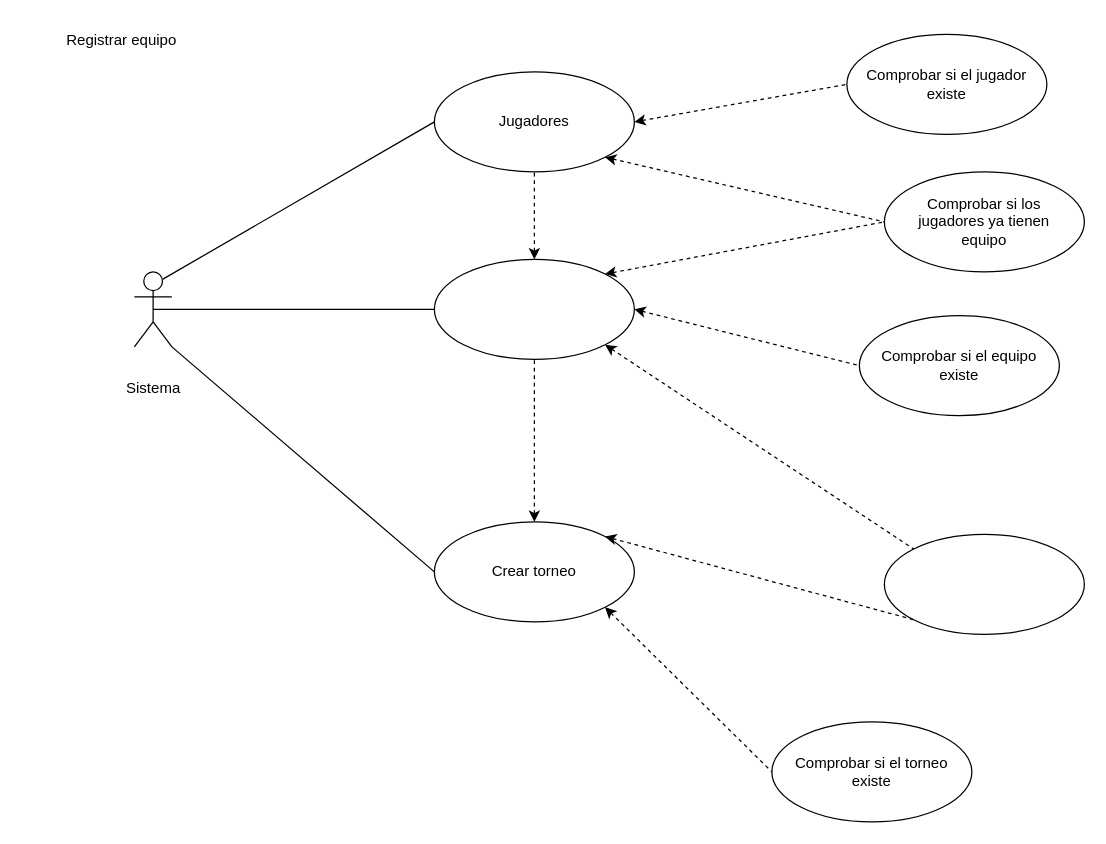
Image size: 1106x844. Some labels were removed from this diagram. The shapes that lost their labels are listed below. From the top down, each one's box as (x1, y1, x2, y2) in pixels, then its label:
(133, 271, 172, 347): Actor
(433, 258, 634, 359): Creo equipo
(883, 533, 1084, 634): Comprobar si el equipo está incrito
